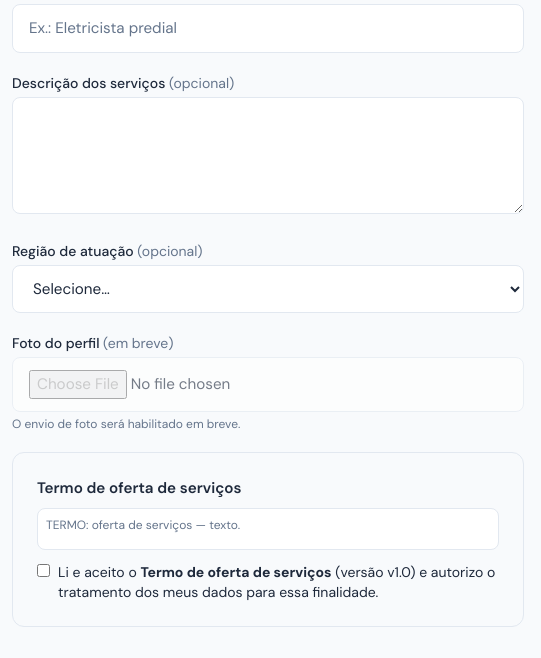
Test: USP-010 #116 — ProviderForm › P-003: desabilita o envio até o aceite do termo
Check: the text "TERMO: oferta de serviços — texto." is shown, box [46,516,240,532]
Click the checkbox at coordinates (44, 570), box [37,564,50,576]
(page scrolled)
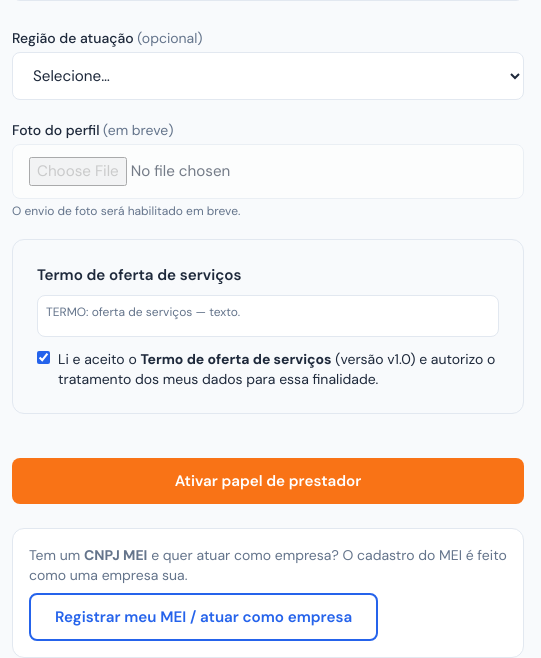
Check: the button "Ativar papel de prestador" is enabled, box [12,458,524,504]
